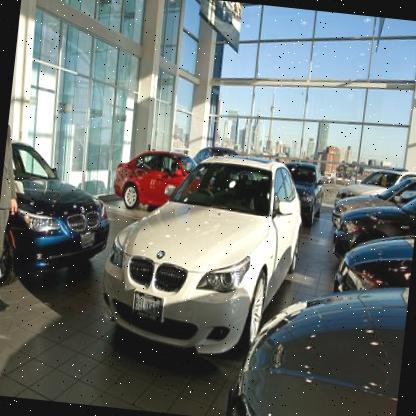car: (88, 134, 310, 367)
